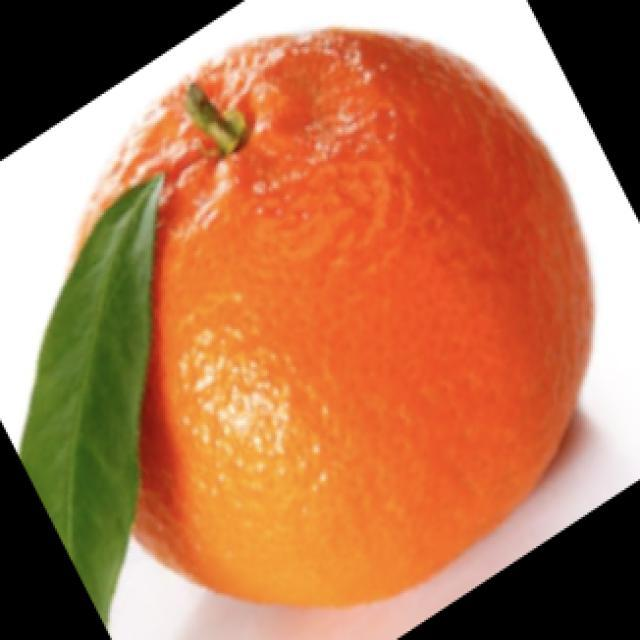matang: (22, 29, 591, 625)
